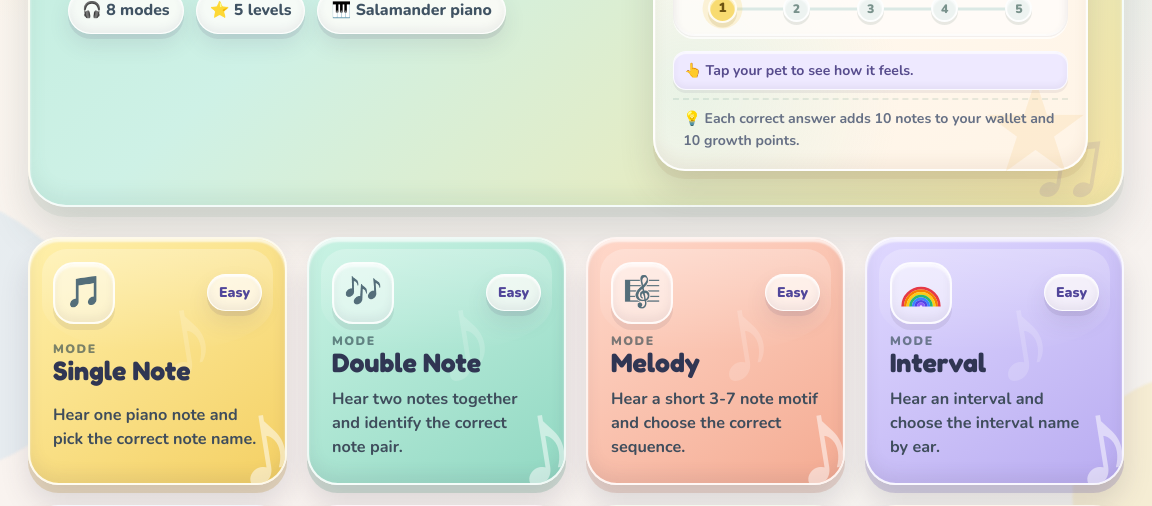
Test: PerfectPitchApp › resets session stats in UI and storage
(page scrolled)
What coordinates should you click on to do the following:
click the button "Single Note"
I would click on:
 (158, 361)
Its box is left=28, top=237, right=287, bottom=485.
(page scrolled)
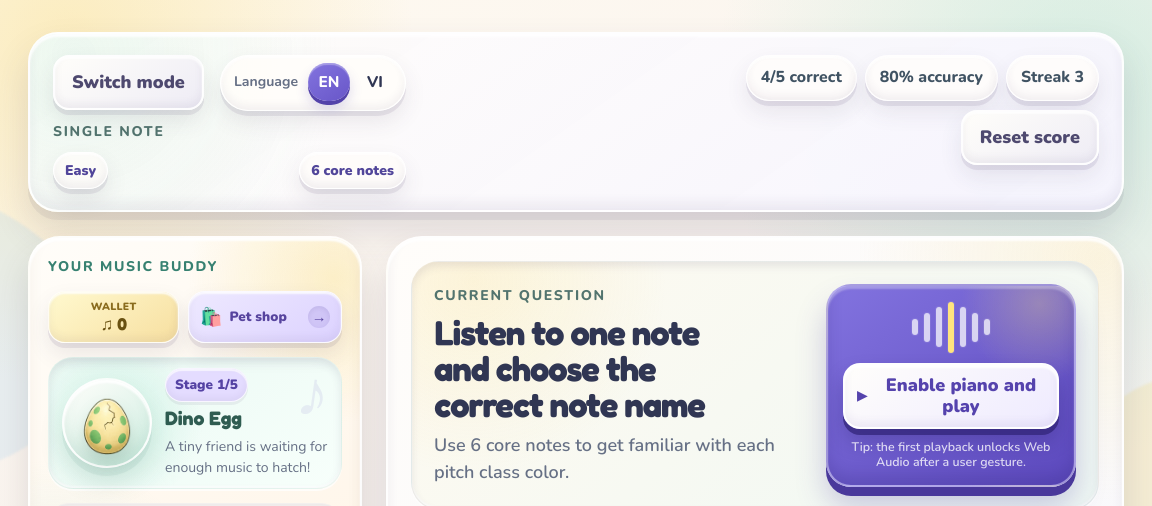
What coordinates should you click on to do the following:
click the button "Reset score"
I would click on:
 (1030, 137)
Its box is left=961, top=110, right=1099, bottom=165.
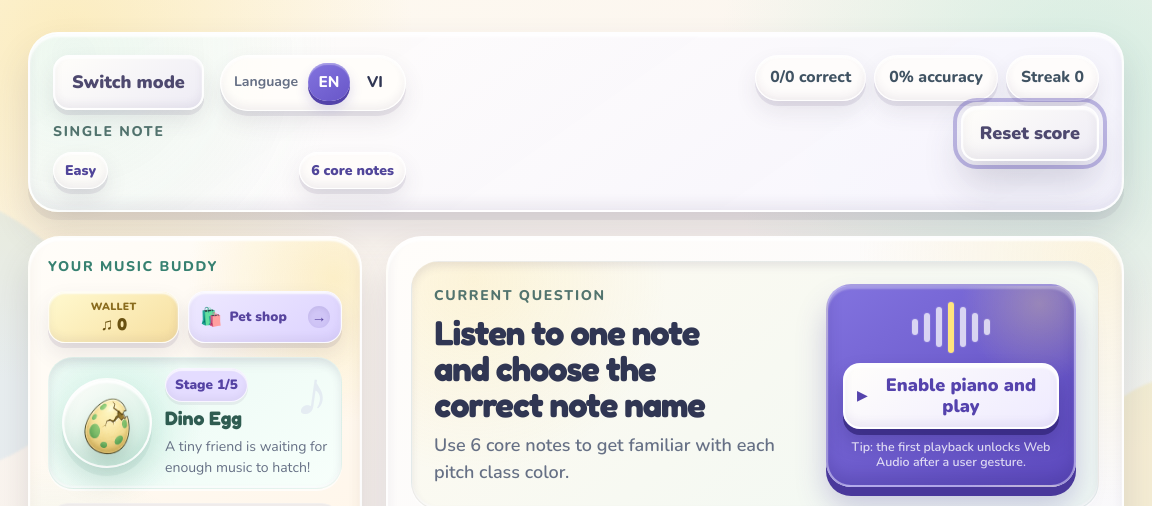
Expected: the text "0% accuracy" is shown, left=874, top=55, right=998, bottom=101
Expected: the text "0/0 correct" is shown, left=755, top=55, right=866, bottom=101
Expected: the text "Streak 0" is shown, left=1006, top=55, right=1099, bottom=101
